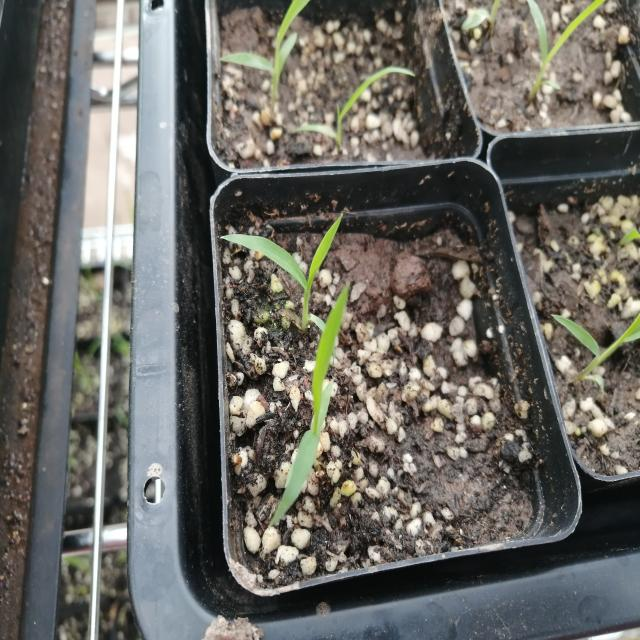crabgrass: (262, 286, 359, 522), (225, 211, 356, 294)
